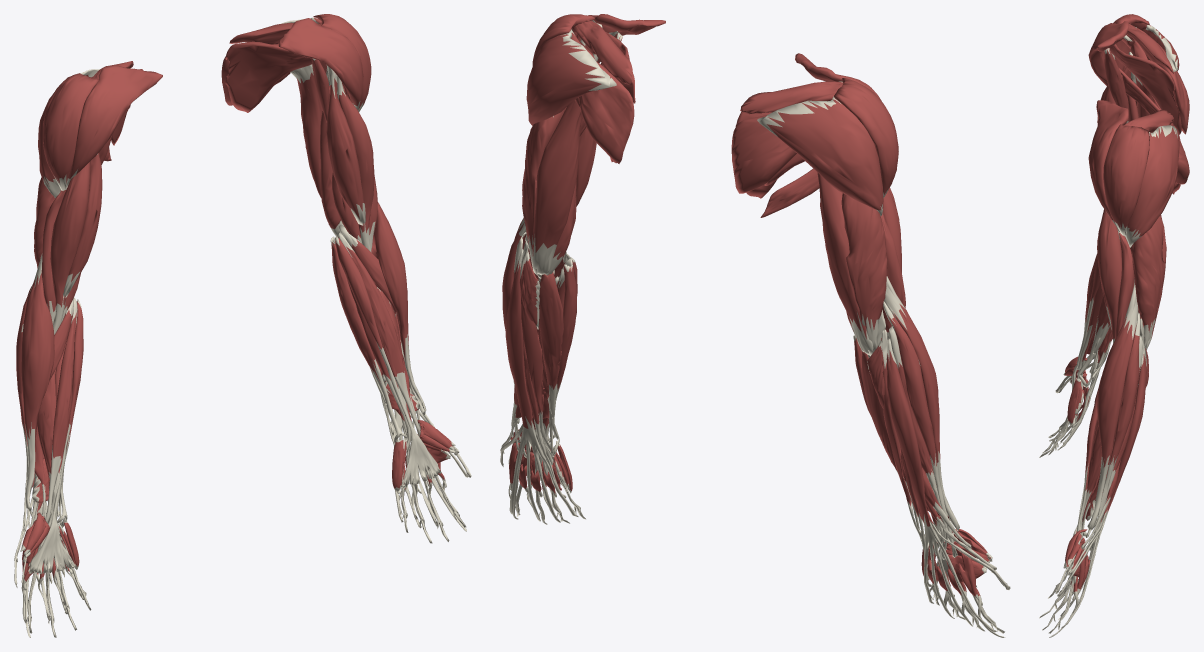
Rendered from muscular-upper-limb-mobile.glb.
The picture shows the model from 3 angles, left to right: view 1: azimuth 30°, elevation 25°; view 2: azimuth 150°, elevation 25°; view 3: azimuth 270°, elevation 25°; orthographic projection. The views are drawn at different scales.
Visible parts, largest first — view 1: za.brachioradialis-muscle-r, za.clavicular-part-of-deltoid-muscle-r, za.subscapularis-muscle-l, za.acromial-part-of-deltoid-muscle-r, za.clavicular-part-of-deltoid-muscle-l, za.long-head-of-biceps-brachii-r, za.short-head-of-biceps-brachii-l, za.palmaris-longus-muscle-l, za.brachioradialis-muscle-l, za.palmaris-longus-muscle-r, za.flexor-carpi-radialis-r, za.flexor-carpi-radialis-l (+18 smaller); view 2: za.scapular-spinal-part-of-deltoid-muscle-r, za.long-head-of-triceps-brachii-l, za.scapular-spinal-part-of-deltoid-muscle-l, za.lateral-head-of-triceps-brachii-r, za.extensor-digitorum-r, za.extensor-digitorum-l, za.infraspinatus-muscle-r, za.infraspinatus-muscle-l, za.long-head-of-triceps-brachii-r, za.acromial-part-of-deltoid-muscle-r, za.extensor-carpi-radialis-longus-r, za.brachioradialis-muscle-r (+21 smaller); view 3: za.brachioradialis-muscle-l, za.acromial-part-of-deltoid-muscle-l, za.scapular-spinal-part-of-deltoid-muscle-l, za.lateral-head-of-triceps-brachii-l, za.long-head-of-biceps-brachii-l, za.clavicular-part-of-deltoid-muscle-l, za.subscapularis-muscle-r, za.extensor-carpi-radialis-longus-l, za.extensor-digitorum-l, za.clavicular-part-of-deltoid-muscle-r, za.brachialis-muscle-l, za.coracobrachialis-muscle-r (+26 smaller).
Part boxes in pixels (bbox=[...]): za.brachioradialis-muscle-r: bbox=[21, 253, 54, 511]; za.clavicular-part-of-deltoid-muscle-r: bbox=[66, 65, 162, 187]; za.subscapularis-muscle-l: bbox=[225, 41, 319, 112]; za.acromial-part-of-deltoid-muscle-r: bbox=[43, 73, 98, 190]; za.clavicular-part-of-deltoid-muscle-l: bbox=[278, 18, 363, 109]; za.long-head-of-biceps-brachii-r: bbox=[50, 162, 90, 334]; za.short-head-of-biceps-brachii-l: bbox=[326, 65, 365, 225]; za.palmaris-longus-muscle-l: bbox=[335, 236, 441, 488]; za.brachioradialis-muscle-l: bbox=[373, 202, 426, 415]; za.palmaris-longus-muscle-r: bbox=[28, 299, 83, 573]; za.flexor-carpi-radialis-r: bbox=[45, 297, 77, 522]; za.flexor-carpi-radialis-l: bbox=[338, 232, 420, 436]; za.scapular-spinal-part-of-deltoid-muscle-r: bbox=[757, 96, 883, 216]; za.long-head-of-triceps-brachii-l: bbox=[532, 100, 582, 275]; za.scapular-spinal-part-of-deltoid-muscle-l: bbox=[526, 32, 616, 125]; za.lateral-head-of-triceps-brachii-r: bbox=[841, 193, 887, 356]; za.extensor-digitorum-r: bbox=[886, 339, 996, 632]; za.extensor-digitorum-l: bbox=[505, 249, 578, 522]; za.infraspinatus-muscle-r: bbox=[731, 115, 796, 193]; za.infraspinatus-muscle-l: bbox=[569, 29, 634, 163]; za.long-head-of-triceps-brachii-r: bbox=[817, 172, 873, 355]; za.acromial-part-of-deltoid-muscle-r: bbox=[834, 78, 898, 197]; za.extensor-carpi-radialis-longus-r: bbox=[883, 301, 957, 557]; za.brachioradialis-muscle-r: bbox=[884, 276, 959, 531]; za.brachioradialis-muscle-l: bbox=[1087, 279, 1138, 530]; za.acromial-part-of-deltoid-muscle-l: bbox=[1103, 124, 1149, 236]; za.scapular-spinal-part-of-deltoid-muscle-l: bbox=[1126, 125, 1179, 247]; za.lateral-head-of-triceps-brachii-l: bbox=[1131, 216, 1165, 350]; za.long-head-of-biceps-brachii-l: bbox=[1097, 209, 1121, 343]; za.clavicular-part-of-deltoid-muscle-l: bbox=[1088, 100, 1128, 232]; za.subscapularis-muscle-r: bbox=[1109, 44, 1181, 134]; za.extensor-carpi-radialis-longus-l: bbox=[1089, 312, 1140, 550]; za.extensor-digitorum-l: bbox=[1058, 349, 1146, 628]; za.clavicular-part-of-deltoid-muscle-r: bbox=[1088, 21, 1128, 85]; za.brachialis-muscle-l: bbox=[1116, 232, 1134, 337]; za.coracobrachialis-muscle-r: bbox=[1104, 48, 1128, 123].
Bounding box in the file's own units: 0.6599 × 0.7118 × 0.2048.
